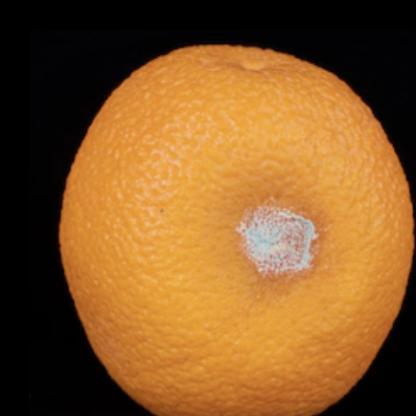rotten: (65, 44, 416, 416)
